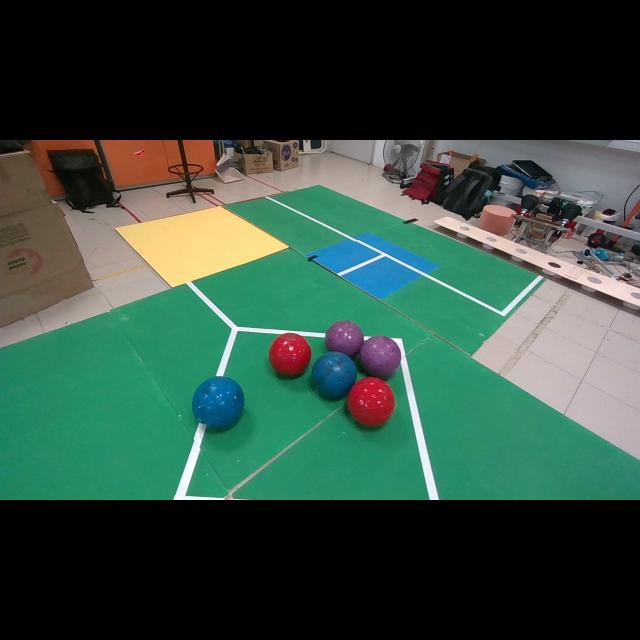B: (192, 376, 245, 428), (311, 351, 356, 398)
P: (360, 335, 401, 378), (325, 320, 364, 358)
R: (348, 376, 396, 426), (269, 332, 311, 376)
